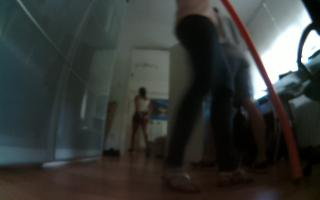person: (169, 1, 249, 193), (212, 4, 272, 174), (126, 81, 157, 163)
